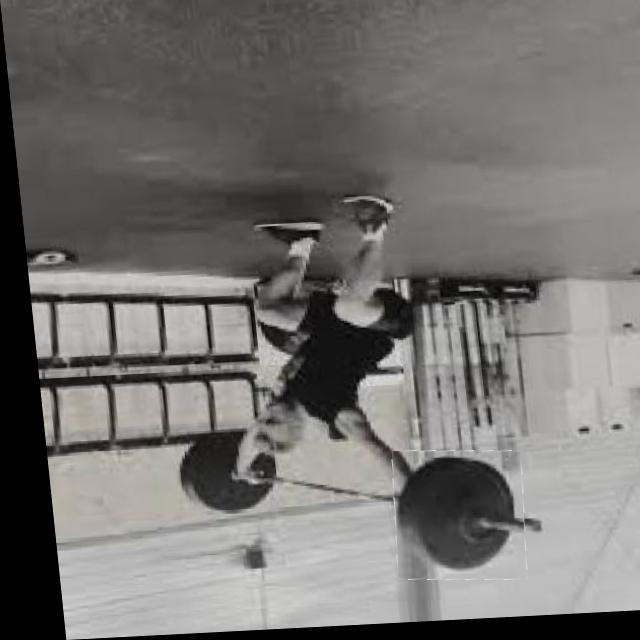barbell: (378, 452, 519, 589)
